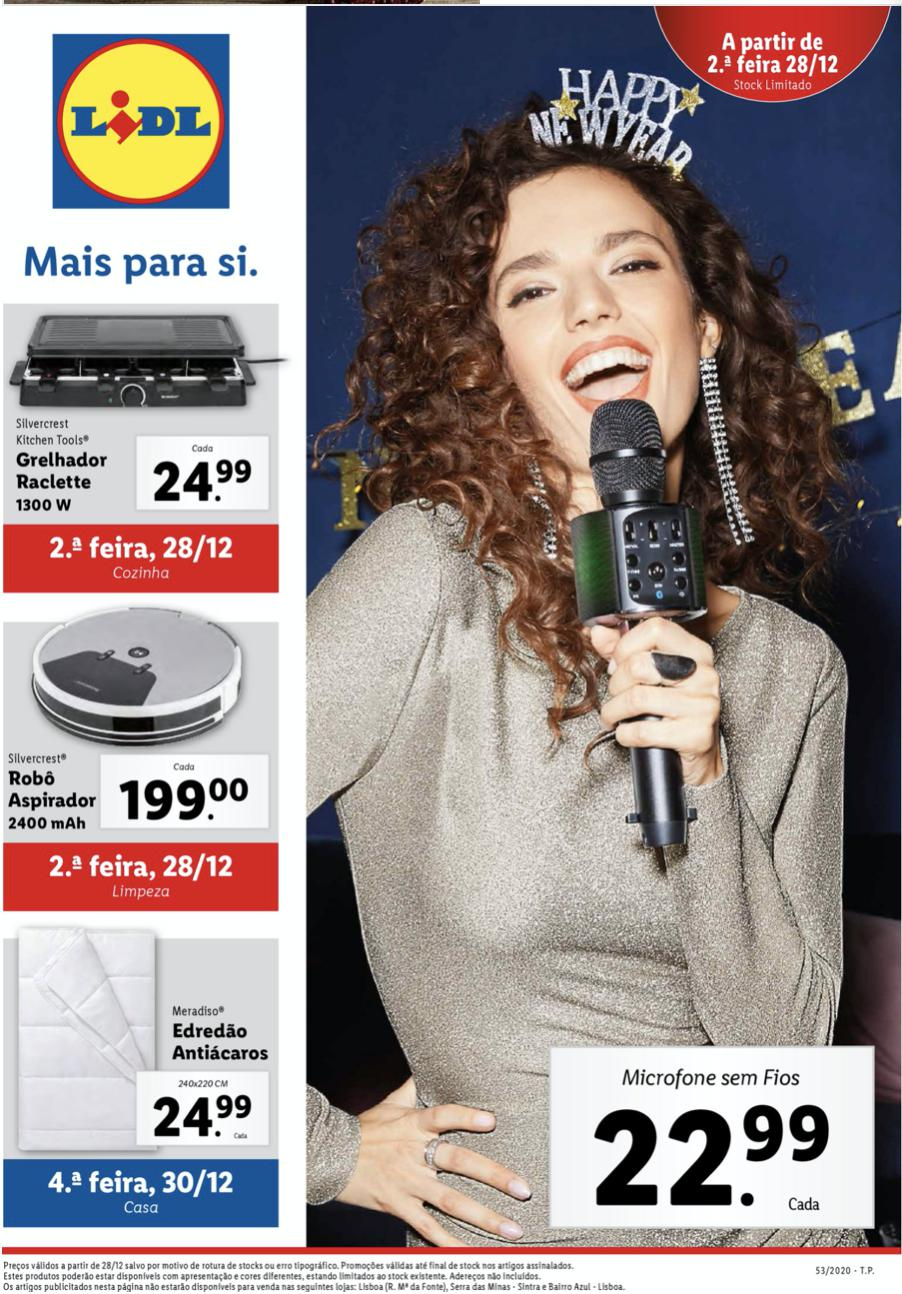name: (17, 447, 110, 515), (7, 762, 97, 829), (170, 1020, 273, 1066)
price: (596, 1097, 831, 1212), (115, 770, 252, 824), (147, 455, 268, 507), (149, 1091, 254, 1142)
product: (339, 21, 885, 1239), (1, 605, 283, 845), (1, 299, 283, 531), (5, 923, 288, 1154)
